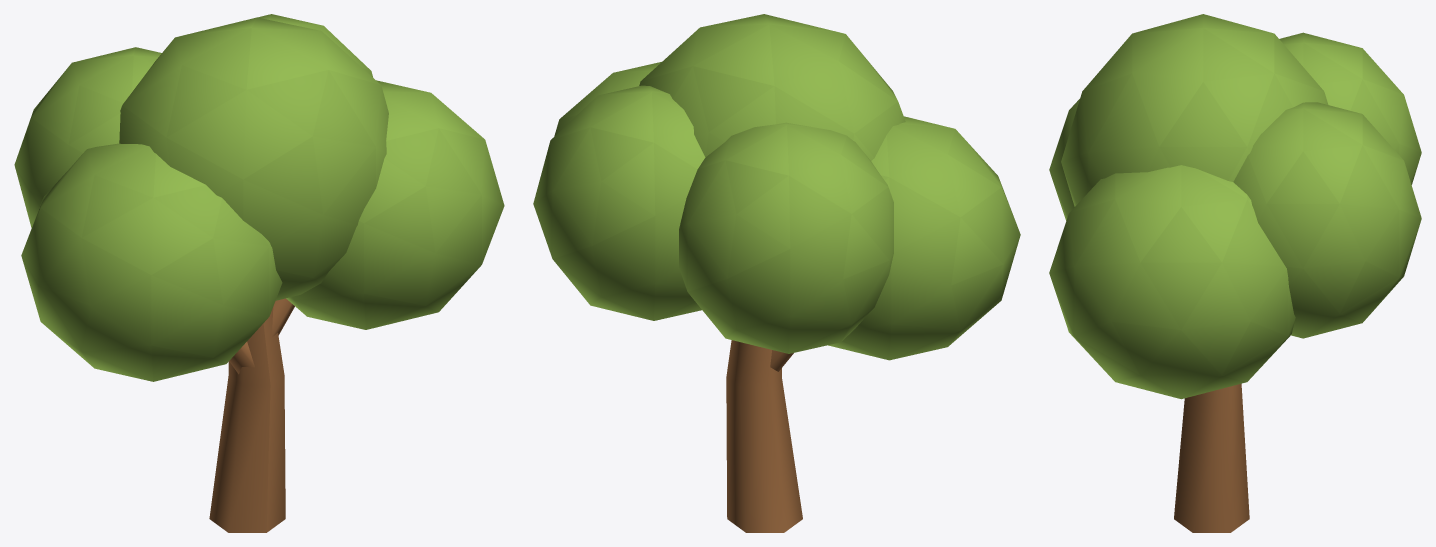
File: tree_broadleaf_a.glb
3 renders of one model, left to right at view 1: azimuth 30°, elevation 25°; view 2: azimuth 150°, elevation 25°; view 3: azimuth 270°, elevation 25°, orthographic.
Visible parts, largest first — view 1: Rounded crown top, Rounded crown left, Rounded crown right, Six sided gently bent trunk, Rounded crown back_left, Rounded crown back_right; view 2: Rounded crown back_left, Rounded crown back_right, Rounded crown left, Rounded crown top, Six sided gently bent trunk, Rounded crown right; view 3: Rounded crown right, Rounded crown top, Rounded crown back_right, Six sided gently bent trunk, Rounded crown back_left, Rounded crown left.
Boxes of the visible parts, x1=… form: Rounded crown top: x1=119, y1=17, x2=388, y2=300; Rounded crown left: x1=21, y1=143, x2=282, y2=381; Rounded crown right: x1=286, y1=80, x2=504, y2=329; Six sided gently bent trunk: x1=209, y1=307, x2=285, y2=532; Rounded crown back_left: x1=14, y1=47, x2=161, y2=227; Rounded crown back_right: x1=257, y1=14, x2=372, y2=76; Rounded crown back_left: x1=679, y1=122, x2=893, y2=353; Rounded crown back_right: x1=533, y1=85, x2=705, y2=320; Rounded crown left: x1=828, y1=116, x2=1020, y2=360; Rounded crown top: x1=639, y1=14, x2=905, y2=160; Six sided gently bent trunk: x1=726, y1=340, x2=802, y2=532; Rounded crown right: x1=554, y1=62, x2=661, y2=136; Rounded crown right: x1=1049, y1=165, x2=1295, y2=399; Rounded crown top: x1=1061, y1=14, x2=1328, y2=206; Rounded crown back_right: x1=1233, y1=102, x2=1421, y2=338; Six sided gently bent trunk: x1=1174, y1=383, x2=1249, y2=532; Rounded crown back_left: x1=1279, y1=32, x2=1421, y2=184; Rounded crown left: x1=1049, y1=99, x2=1079, y2=220.
Bounding box in the file's own units: 1.52 × 1.6 × 1.1.
